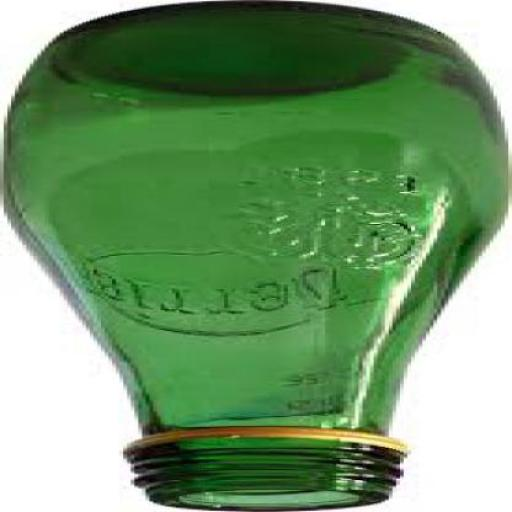glass: (8, 1, 510, 511)
